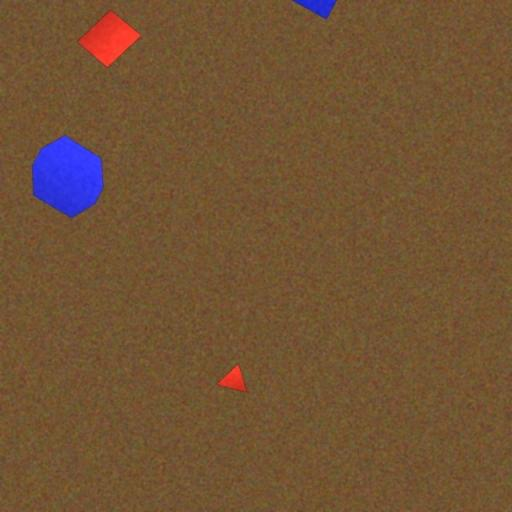RED_SQUARE: (76, 9, 142, 69)
